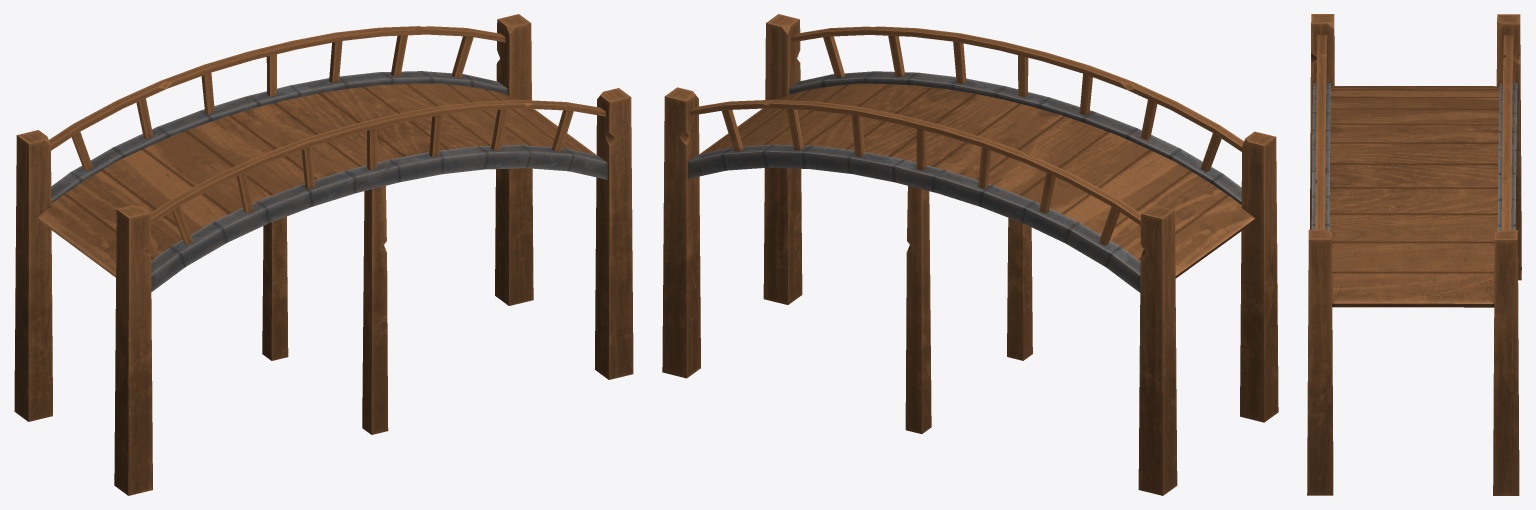
The model's file is BigBridge.fbx.
The picture shows the model from 3 angles, left to right: view 1: azimuth 30°, elevation 25°; view 2: azimuth 150°, elevation 25°; view 3: azimuth 270°, elevation 25°; orthographic projection. The views are drawn at different scales.
Visible parts, largest first — view 1: Big_Bridge; view 2: Big_Bridge; view 3: Big_Bridge.
Boxes of the visible parts, x1,y1,x2,y2 form: Big_Bridge: (14,14,633,495); Big_Bridge: (662,14,1278,495); Big_Bridge: (1307,14,1521,495).
Size of the model in its own units: 893 by 521 by 356.
